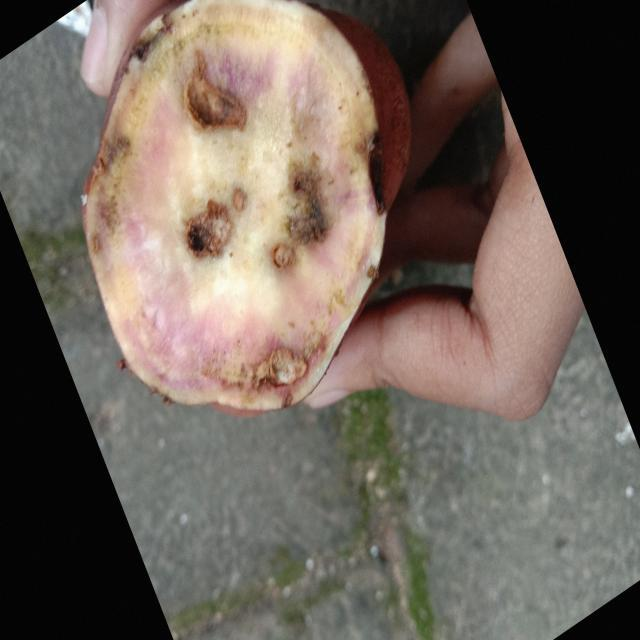Sick Sweet Potato_Tuber Rot: (82, 2, 410, 412)
